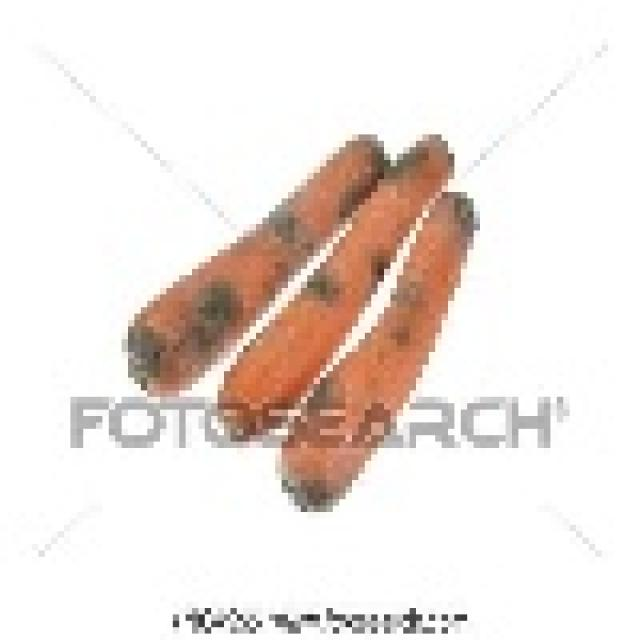Stale_Carrot: (219, 138, 452, 433), (282, 192, 476, 509)
